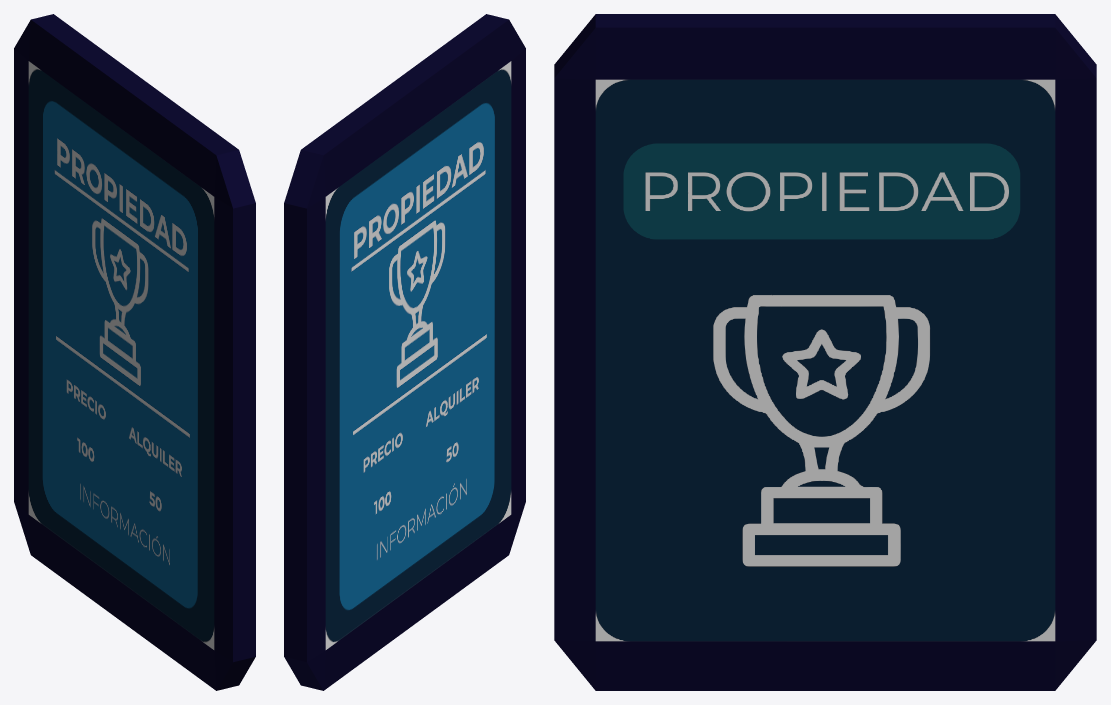
File: ACCION_PRUEBA_ESCANEABLE.glb
3 views of the same model, side by side, from view 1: azimuth 30°, elevation 25°; view 2: azimuth 150°, elevation 25°; view 3: azimuth 270°, elevation 25° (orthographic). The views are drawn at different scales.
Visible parts, largest first — view 1: Cube; view 2: Cube; view 3: Cube.
Part boxes in pixels (<box>): Cube: <box>14,14,255,690</box>; Cube: <box>284,14,525,690</box>; Cube: <box>554,14,1096,690</box>.
Size of the model in its own units: 0.3467 by 6.6 by 4.89.
3 materials, 2 textured.
